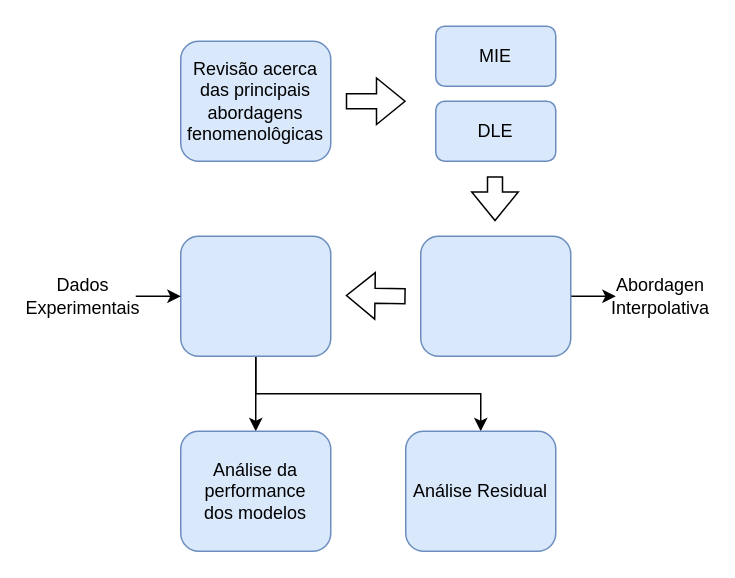
The diagram is 735 pixels wide and 578 high, and some of its shapes have lost their labels. The box of each missing label's shape, as (x1, y1, x2, y2) in pixels:
Avaliação cronológica dos principais modelos: (419, 235, 571, 356)
Implementação e simulação dos modelos: (179, 235, 331, 356)
